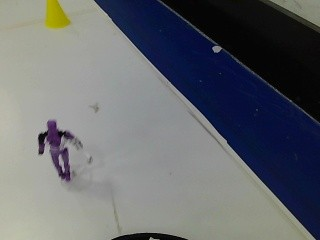cone: (41, 1, 73, 31)
pedestrian: (27, 117, 91, 184)
